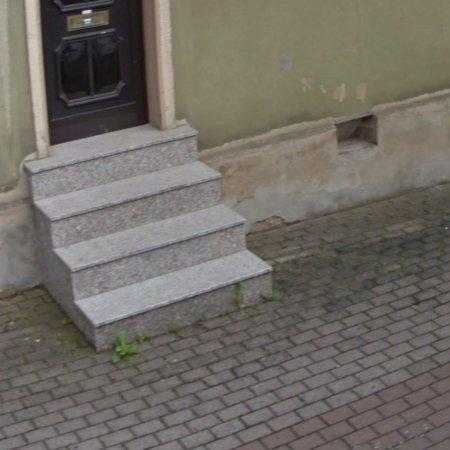stairs: (25, 125, 272, 351)
